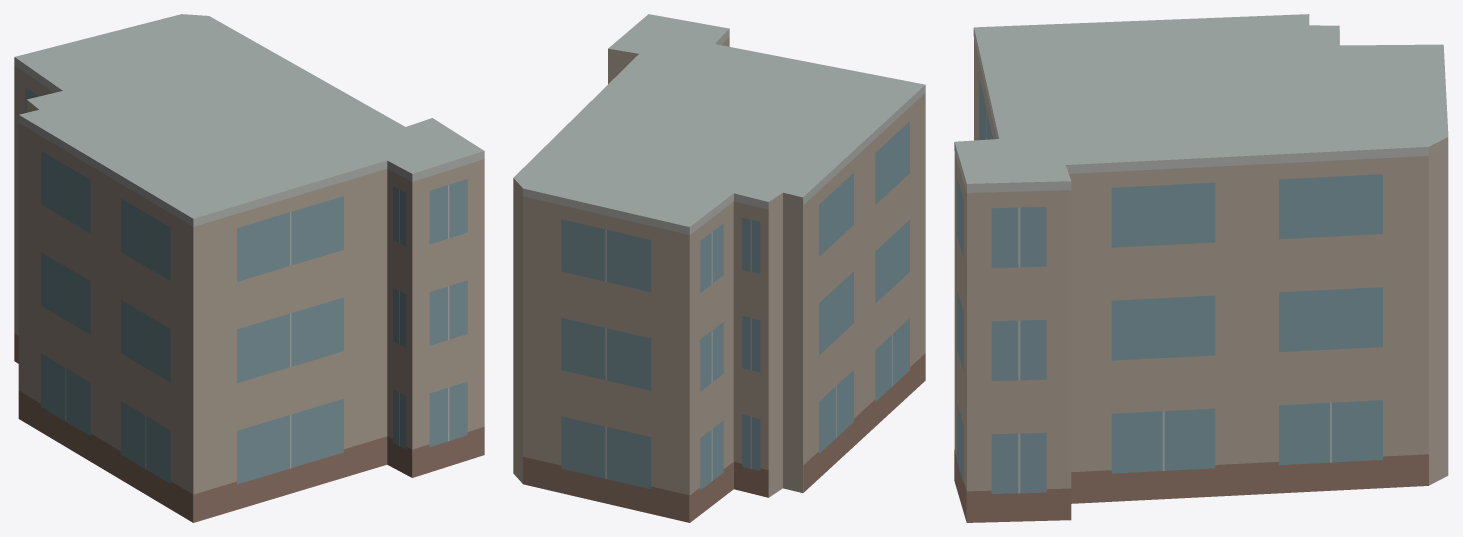
Rendered from survey-upis-32982797.glb.
3 views of the same model, side by side, from view 1: azimuth 30°, elevation 25°; view 2: azimuth 150°, elevation 25°; view 3: azimuth 270°, elevation 25° (orthographic). The views are drawn at different scales.
Visible parts, largest first — view 1: survey-upis-32982797.tmp; view 2: survey-upis-32982797.tmp; view 3: survey-upis-32982797.tmp.
Boxes of the visible parts, left/top/right/bottom form: survey-upis-32982797.tmp: left=14, top=14, right=484, bottom=522; survey-upis-32982797.tmp: left=513, top=14, right=925, bottom=522; survey-upis-32982797.tmp: left=954, top=14, right=1448, bottom=522.
Bounding box in the file's own units: 9.85 × 9.15 × 12.1.
